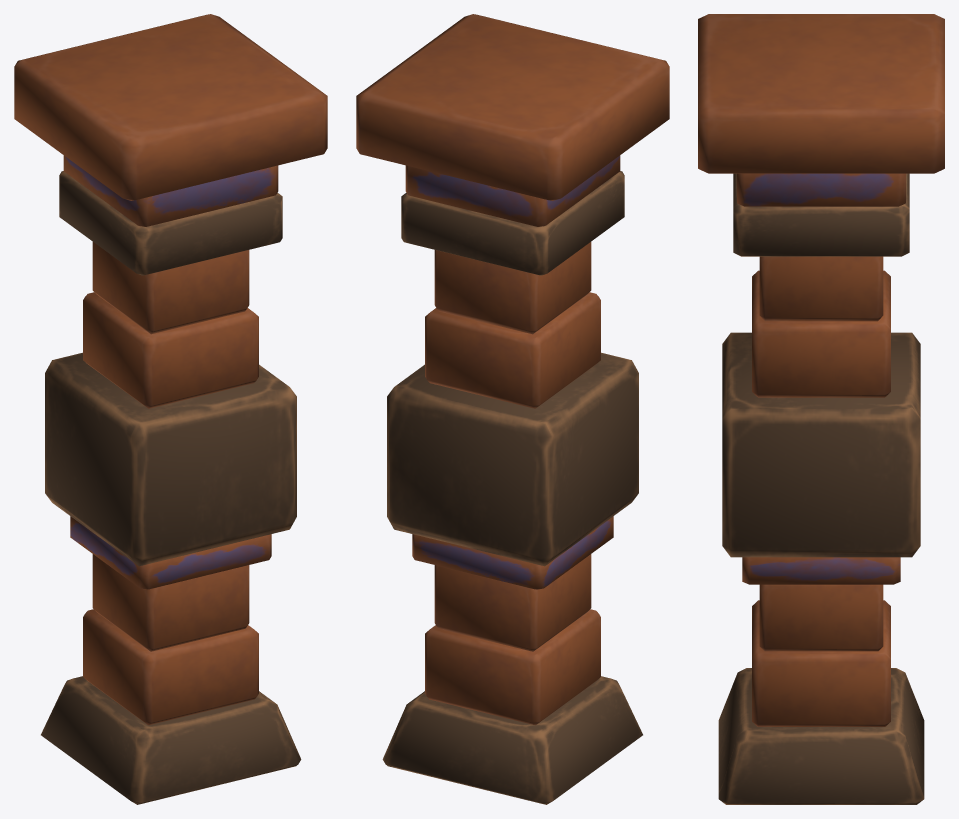
File: pillar4.fbx
The picture shows the model from 3 angles, left to right: view 1: azimuth 30°, elevation 25°; view 2: azimuth 150°, elevation 25°; view 3: azimuth 270°, elevation 25°; orthographic projection. The views are drawn at different scales.
Visible parts, largest first — view 1: cube1_low001, cube3_low002, cube3_low003, cube1_low003, cube1_low005, cube3_low001, cube1_low004, cube1_low002, cube2_low001, cube2_low002; view 2: cube1_low001, cube3_low002, cube3_low003, cube1_low003, cube1_low005, cube3_low001, cube1_low004, cube1_low002, cube2_low001, cube2_low002; view 3: cube1_low001, cube3_low002, cube3_low003, cube1_low003, cube1_low005, cube3_low001, cube1_low004, cube1_low002, cube2_low001, cube2_low002.
Part boxes in pixels (x1,y1,x2,y2): cube1_low001: (14,14,327,200); cube3_low002: (45,352,296,566); cube3_low003: (41,676,301,804); cube1_low003: (83,292,258,408); cube1_low005: (83,609,258,725); cube3_low001: (59,171,282,275); cube1_low004: (92,554,249,651); cube1_low002: (92,242,249,334); cube2_low001: (63,155,278,226); cube2_low002: (70,516,271,589); cube1_low001: (356,14,669,200); cube3_low002: (387,352,638,566); cube3_low003: (382,676,642,804); cube1_low003: (425,292,600,408); cube1_low005: (425,609,600,725); cube3_low001: (401,171,624,275); cube1_low004: (434,554,591,651); cube1_low002: (434,242,591,334); cube2_low001: (405,155,620,226); cube2_low002: (412,516,613,589); cube1_low001: (698,14,944,173); cube3_low002: (722,332,920,557); cube3_low003: (718,668,924,804); cube1_low003: (752,270,890,397); cube1_low005: (752,600,890,726); cube3_low001: (733,173,909,256); cube1_low004: (759,584,883,651); cube1_low002: (759,256,883,321); cube2_low001: (737,173,905,206); cube2_low002: (742,557,900,584).
Bounding box in the file's own units: 631 × 633 × 1988.
